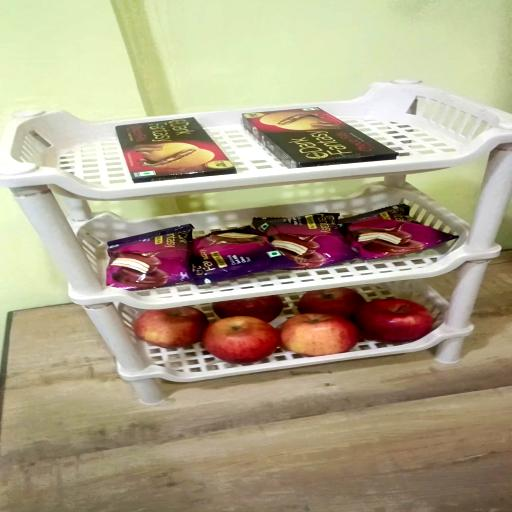Apple: (203, 316, 282, 364), (351, 299, 431, 343), (280, 314, 360, 357), (136, 307, 210, 348), (299, 289, 366, 319), (212, 296, 284, 322)
Choco Fills: (240, 106, 398, 167), (118, 116, 239, 182)
Choco Pie: (342, 206, 458, 261), (254, 214, 360, 271), (192, 226, 291, 285), (105, 226, 194, 291)
